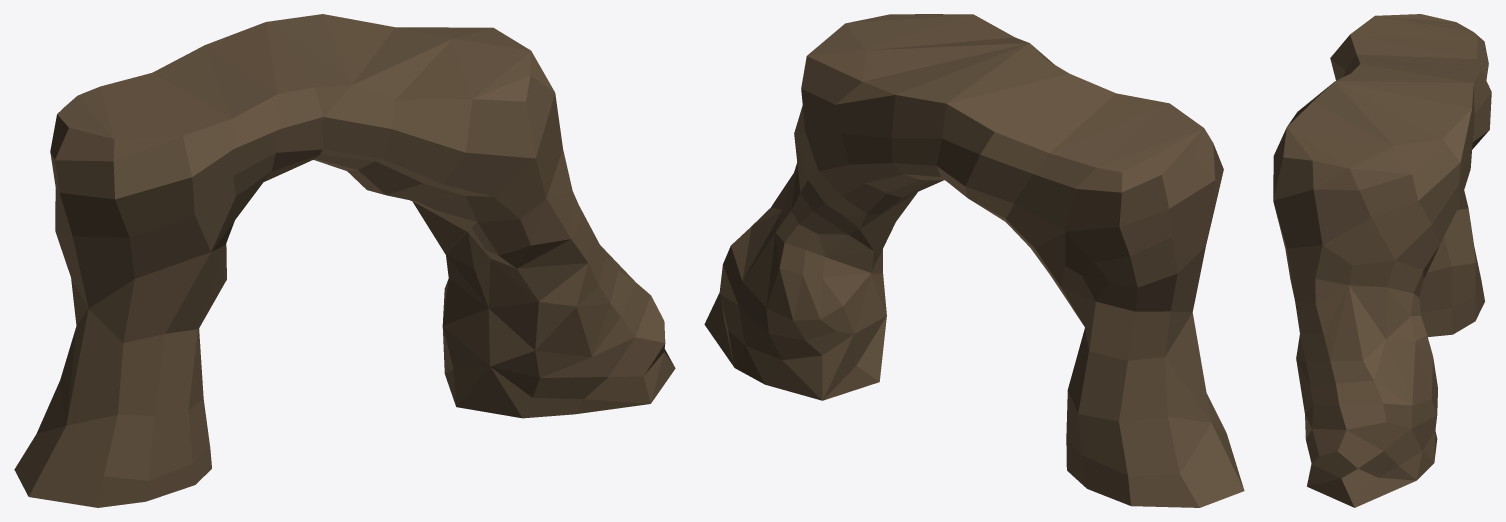
File: Pillar-C04.fbx
The picture shows the model from 3 angles, left to right: view 1: azimuth 30°, elevation 25°; view 2: azimuth 150°, elevation 25°; view 3: azimuth 270°, elevation 25°; orthographic projection. The views are drawn at different scales.
Parts seen in each view (by area): view 1: Pillar-C04; view 2: Pillar-C04; view 3: Pillar-C04.
Boxes of the visible parts, x1,y1,x2,y2 form: Pillar-C04: (14,14,675,507); Pillar-C04: (704,14,1244,507); Pillar-C04: (1273,14,1491,507).
Bounding box in the file's own units: 487 × 190 × 287.
